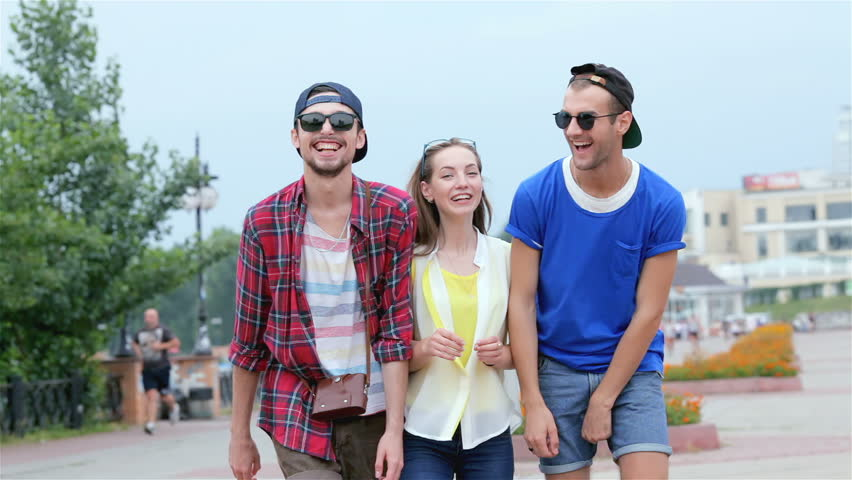bare: (294, 132, 360, 174), (561, 125, 616, 170), (434, 180, 487, 214)
